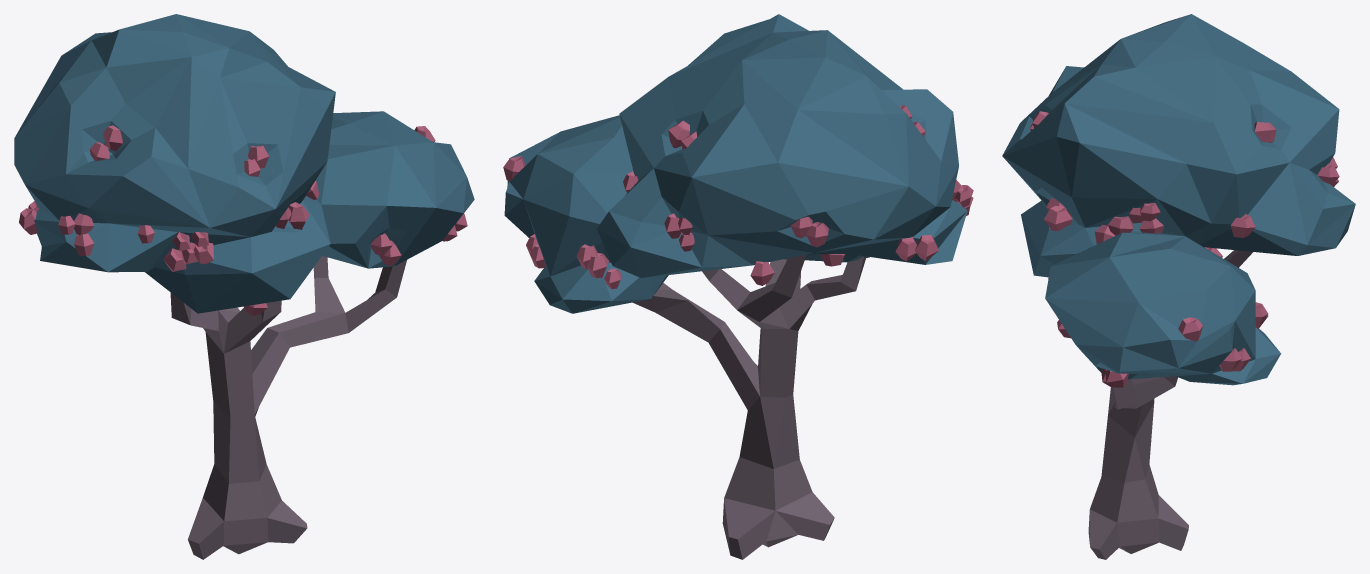
Rendered from SM_Env_Tree_Apricot_Grown_01.fbx.
3 renders of one model, left to right at view 1: azimuth 30°, elevation 25°; view 2: azimuth 150°, elevation 25°; view 3: azimuth 270°, elevation 25°, orthographic. The views are drawn at different scales.
Parts seen in each view (by area): view 1: SM_Env_Tree_Apricot_Grown_01; view 2: SM_Env_Tree_Apricot_Grown_01; view 3: SM_Env_Tree_Apricot_Grown_01.
Part boxes in pixels (x1=…): SM_Env_Tree_Apricot_Grown_01: x1=14, y1=14, x2=474, y2=559; SM_Env_Tree_Apricot_Grown_01: x1=503, y1=14, x2=973, y2=559; SM_Env_Tree_Apricot_Grown_01: x1=1002, y1=14, x2=1355, y2=559.
Bounding box in the file's own units: 4.13 × 4.87 × 3.12.
Materials: 1 (1 with a texture image).
